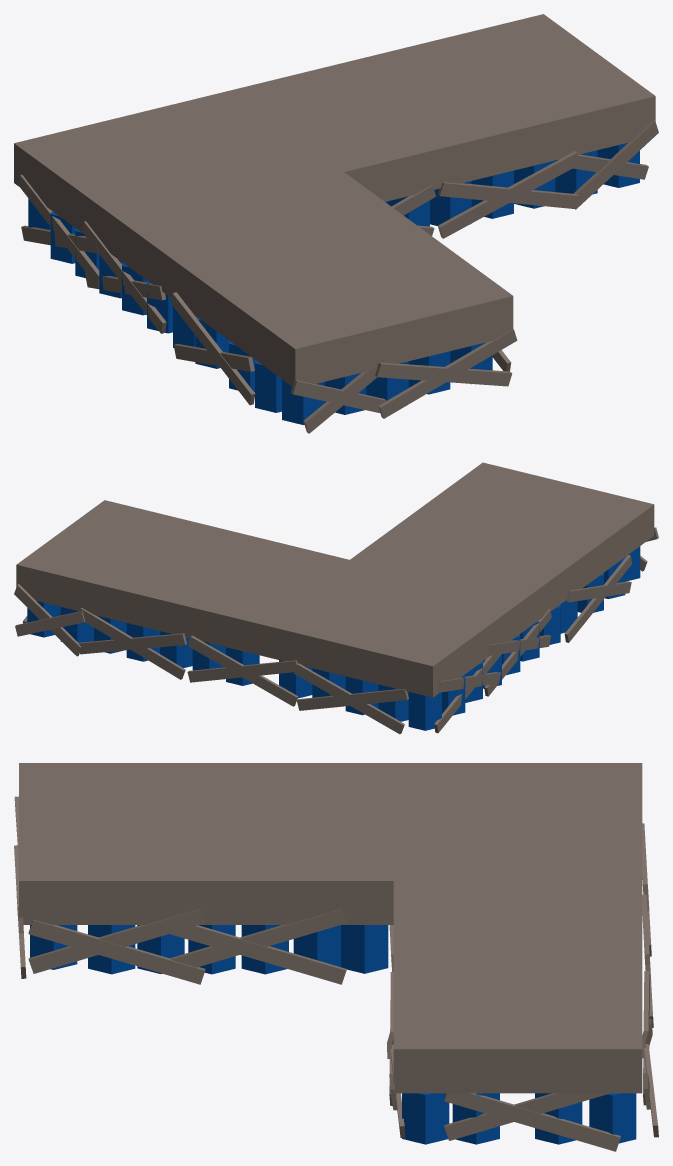
3 views of the same model, one above another, from view 1: azimuth 30°, elevation 25°; view 2: azimuth 150°, elevation 25°; view 3: azimuth 270°, elevation 25° (orthographic). The views are drawn at different scales.
Visible parts, largest first — view 1: polySurface607; view 2: polySurface607; view 3: polySurface607.
Boxes of the visible parts, left/top/right/bottom form: polySurface607: left=14, top=14, right=658, bottom=433; polySurface607: left=14, top=462, right=658, bottom=734; polySurface607: left=14, top=763, right=658, bottom=1151.
Size of the model in its own units: 7.76 by 1.3 by 7.24.
